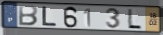1: (83, 8, 92, 28)
3: (105, 7, 122, 30)
6: (62, 5, 80, 29)
B: (18, 5, 40, 27)
L: (127, 8, 144, 30), (41, 5, 58, 27)
